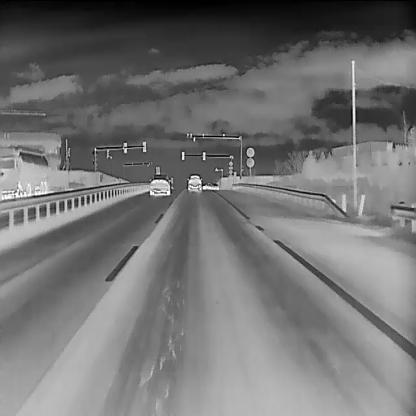car: (148, 173, 172, 194), (186, 173, 202, 190), (202, 181, 219, 190)
truck: (0, 142, 47, 199)
